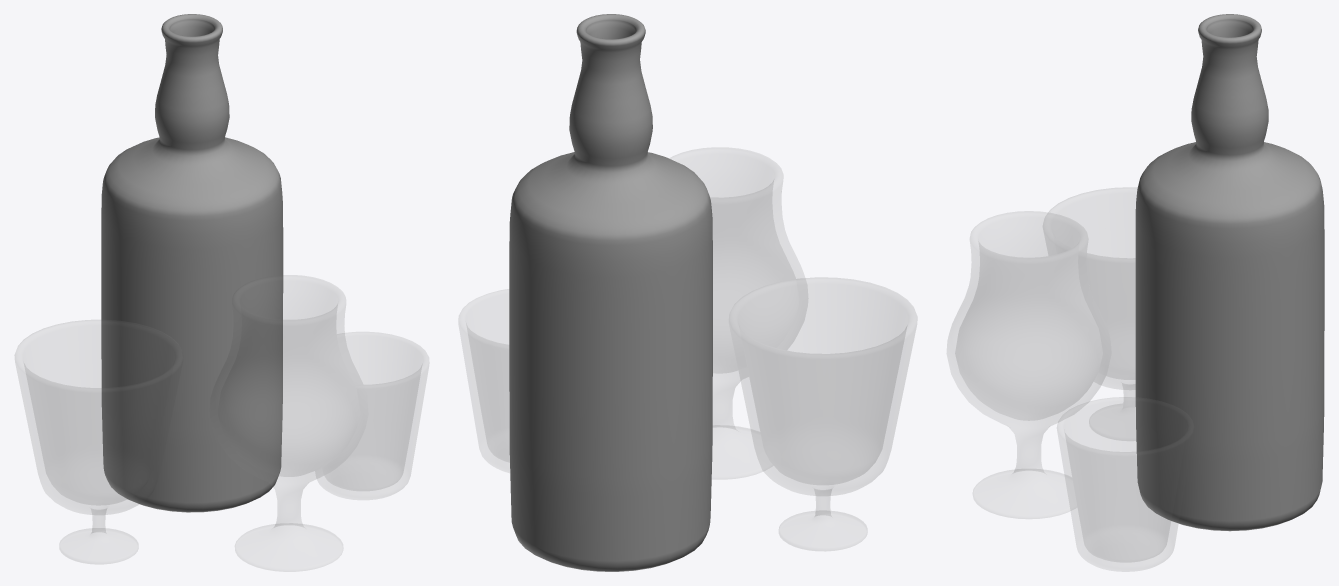
Rendered from Bottle & Tumbler.glb.
3 renders of one model, left to right at view 1: azimuth 30°, elevation 25°; view 2: azimuth 150°, elevation 25°; view 3: azimuth 270°, elevation 25°, orthographic. The views are drawn at different scales.
Visible parts, largest first — view 1: Bottle, Tumbler_03, Tumbler_02, Tumbler_01; view 2: Bottle, Tumbler_02, Tumbler_03, Tumbler_01; view 3: Bottle, Tumbler_03, Tumbler_01, Tumbler_02.
Boxes of the visible parts, x1,y1,x2,y2 form: Bottle: [101, 14, 283, 512]; Tumbler_03: [210, 275, 367, 571]; Tumbler_02: [15, 320, 182, 563]; Tumbler_01: [315, 332, 428, 499]; Bottle: [509, 14, 712, 571]; Tumbler_02: [729, 278, 916, 550]; Tumbler_03: [670, 148, 804, 478]; Tumbler_01: [459, 289, 509, 472]; Bottle: [1135, 14, 1324, 531]; Tumbler_03: [947, 211, 1110, 518]; Tumbler_01: [1057, 397, 1193, 571]; Tumbler_02: [1043, 188, 1136, 440].
Size of the model in its own units: 0.2604 by 0.2868 by 0.2092.
4 materials, 4 textured.
